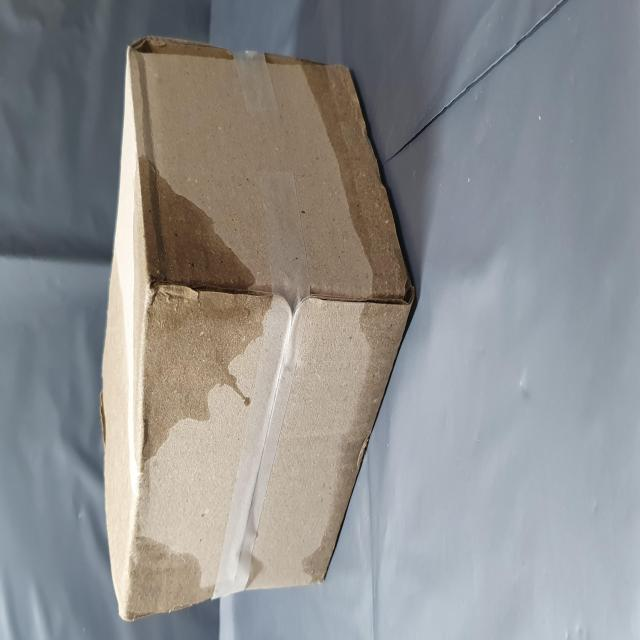wet: (100, 232, 274, 458), (31, 542, 324, 640), (12, 218, 78, 382)
